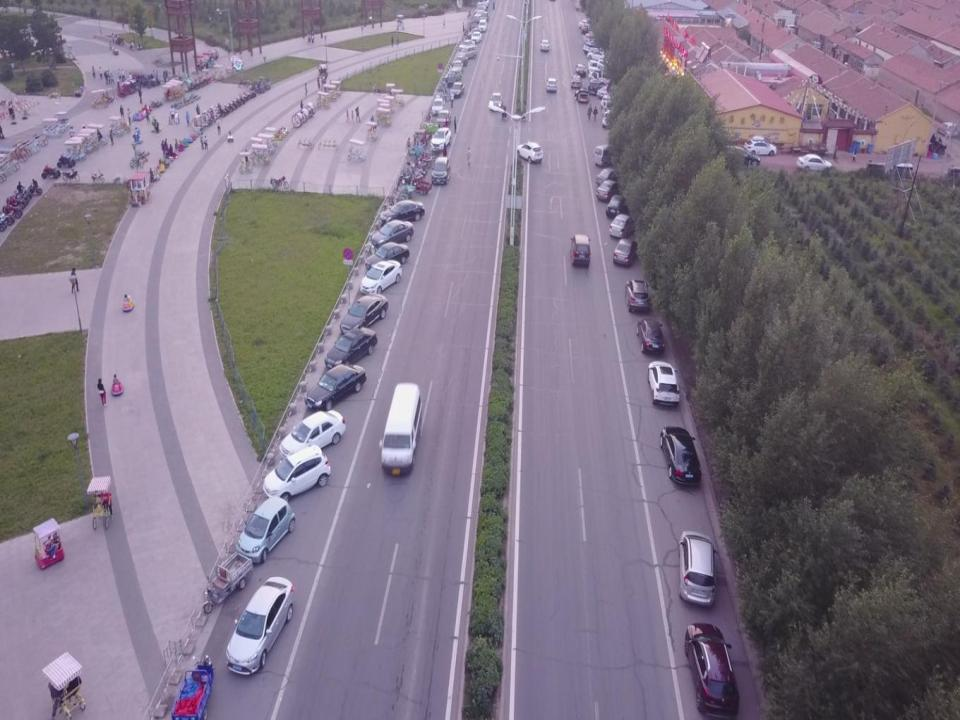car: (226, 576, 294, 675), (236, 496, 295, 562), (280, 410, 345, 463), (304, 364, 366, 412), (660, 426, 702, 485), (324, 326, 377, 370), (340, 294, 388, 333), (360, 260, 402, 296), (365, 242, 409, 273), (372, 220, 414, 250), (380, 200, 425, 226), (715, 146, 761, 167), (637, 319, 664, 352), (609, 214, 636, 240), (613, 238, 638, 266), (797, 154, 832, 174), (595, 180, 624, 201), (606, 195, 630, 218), (744, 139, 776, 156), (596, 168, 620, 187), (597, 87, 620, 100), (587, 51, 609, 63), (436, 110, 451, 127), (431, 98, 445, 116), (450, 82, 464, 98), (574, 88, 590, 102), (490, 92, 502, 110), (450, 55, 468, 67), (458, 40, 475, 52), (575, 64, 587, 77), (571, 74, 582, 88), (578, 20, 594, 29), (452, 61, 463, 74), (474, 5, 486, 15), (540, 39, 550, 50), (580, 24, 589, 35)
van: (685, 623, 739, 720), (262, 444, 330, 504), (379, 383, 421, 475), (678, 531, 719, 606), (647, 360, 680, 406), (626, 280, 650, 312), (593, 143, 618, 169), (570, 234, 590, 266), (516, 142, 543, 164), (432, 156, 450, 184), (431, 127, 451, 151), (588, 79, 608, 96), (602, 100, 621, 116), (458, 45, 477, 60), (583, 42, 603, 56), (444, 68, 462, 83), (601, 95, 620, 109), (588, 69, 608, 82), (596, 58, 612, 74), (602, 111, 616, 128), (585, 33, 602, 47), (546, 78, 558, 92), (474, 10, 487, 22), (588, 60, 599, 74), (478, 19, 487, 32), (480, 12, 488, 24), (477, 0, 489, 8)
